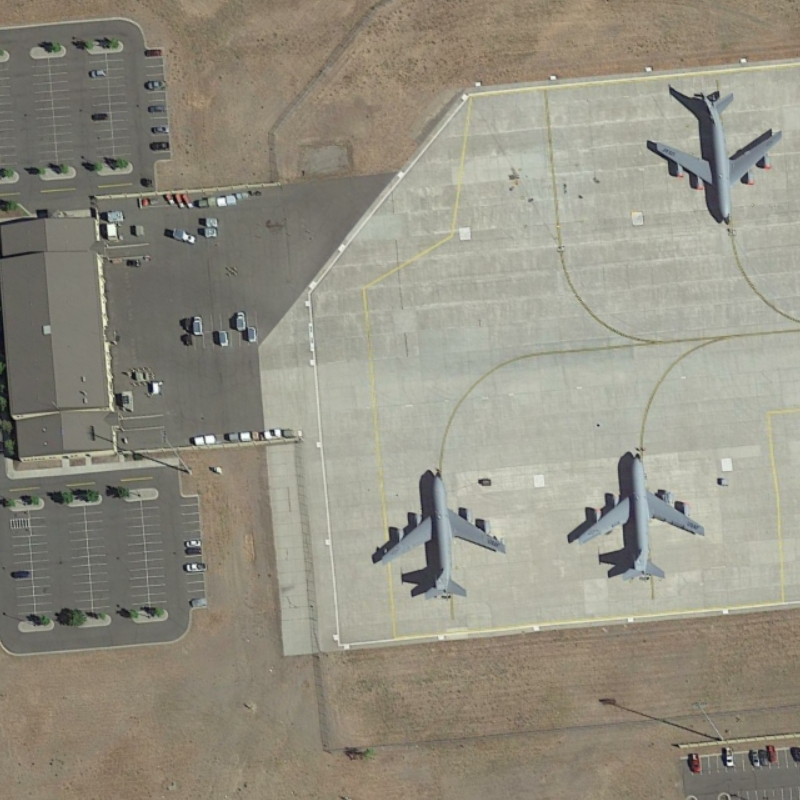A14: (364, 457, 515, 612), (565, 441, 716, 589), (639, 80, 787, 231)
